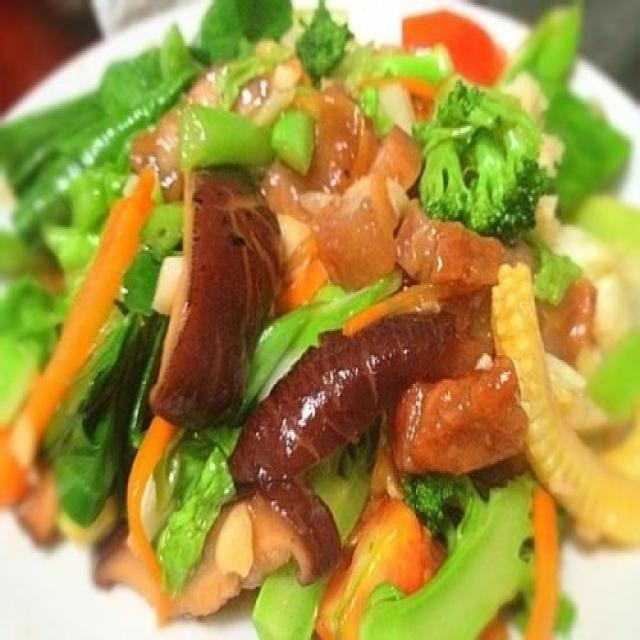蔬菜料理: (19, 24, 621, 628)
